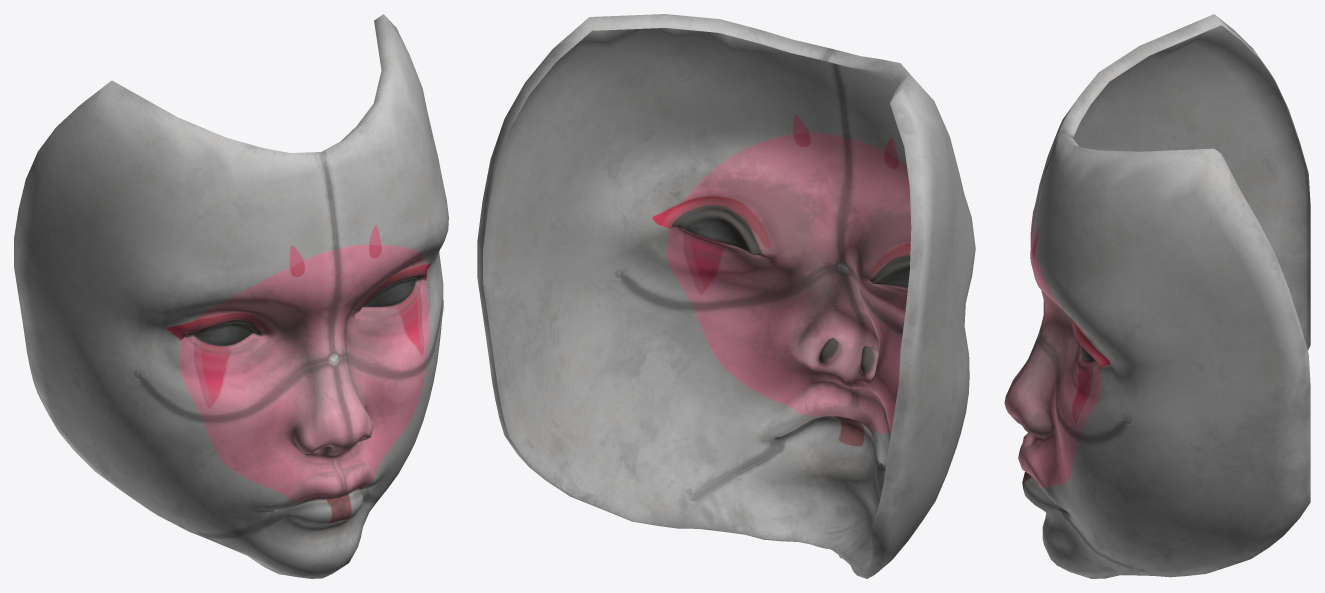
Rendered from GeishaMask_LODG.fbx.
The picture shows the model from 3 angles, left to right: view 1: azimuth 30°, elevation 25°; view 2: azimuth 150°, elevation 25°; view 3: azimuth 270°, elevation 25°; orthographic projection. The views are drawn at different scales.
Parts seen in each view (by area): view 1: GeishaMask_LOD0; view 2: GeishaMask_LOD0; view 3: GeishaMask_LOD0.
Part boxes in pixels (<box>): GeishaMask_LOD0: <box>14,14,448,578</box>; GeishaMask_LOD0: <box>477,14,975,578</box>; GeishaMask_LOD0: <box>1004,14,1310,578</box>.
Size of what is drawn, in the model's own units: 15.19 by 18.36 by 10.46.
